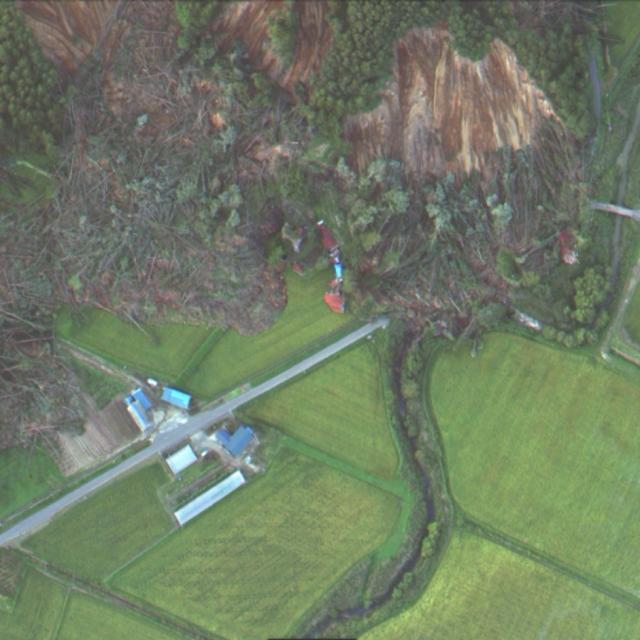landslide: (0, 1, 284, 447), (344, 27, 584, 335), (210, 0, 333, 96), (279, 0, 332, 93)
